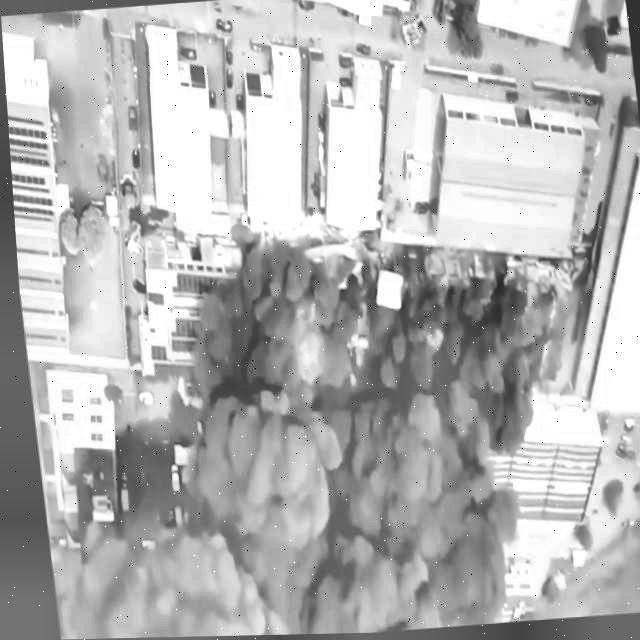Smoke: (39, 401, 568, 640)
